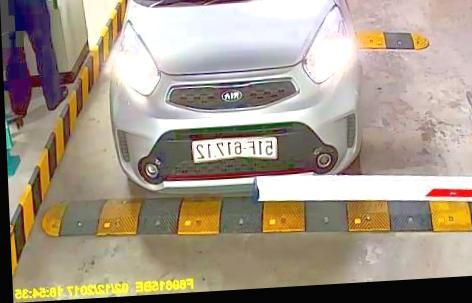License_Plate: (190, 130, 279, 169)
